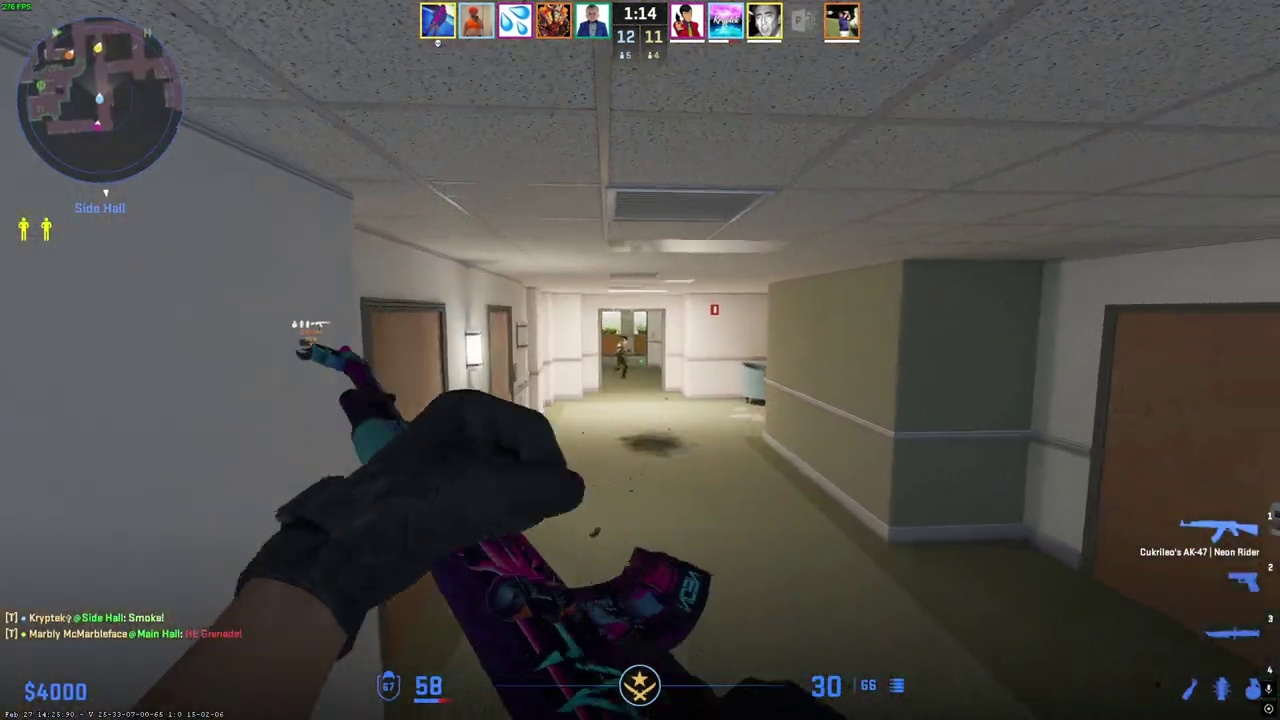Terrorist: (612, 335, 631, 379)
